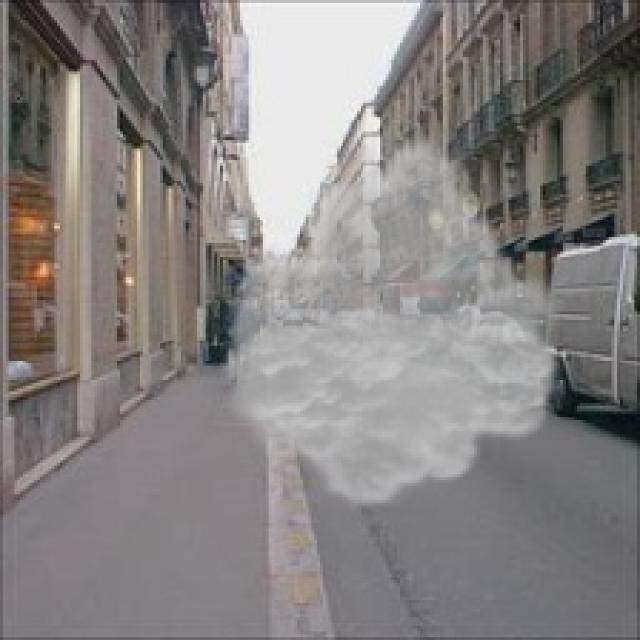smoke: (214, 132, 572, 512)
